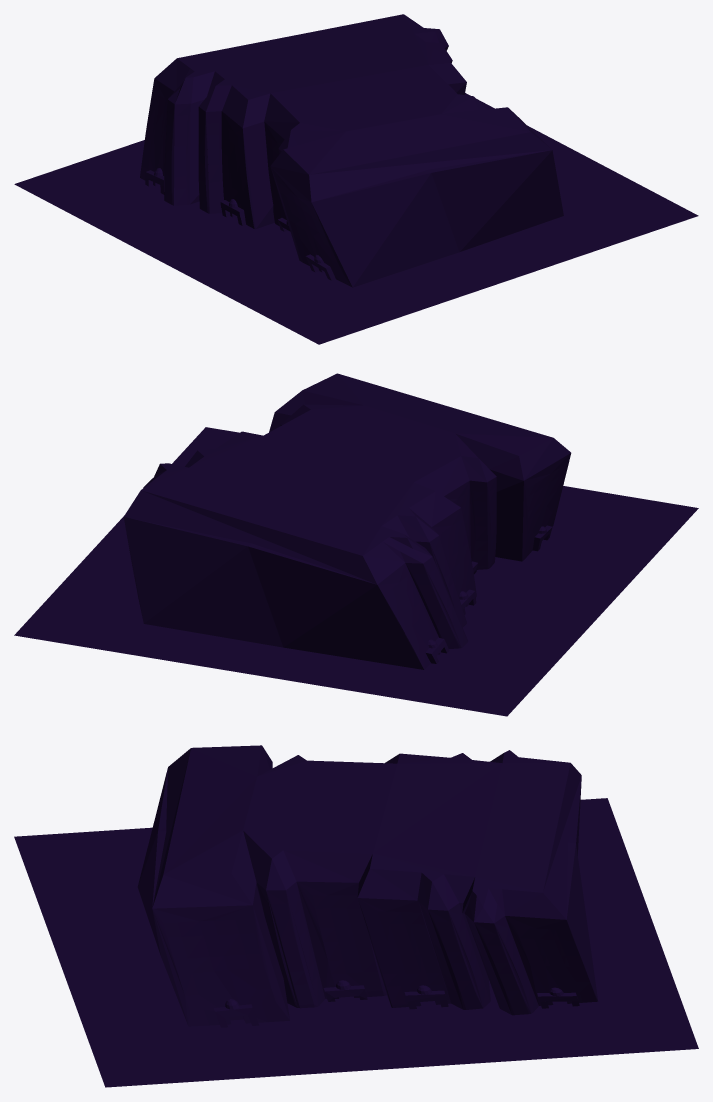
The model's file is rowhouses_oozed.FBX.
3 renders of one model, top to bottom at view 1: azimuth 30°, elevation 25°; view 2: azimuth 150°, elevation 25°; view 3: azimuth 270°, elevation 25°, orthographic. The views are drawn at different scales.
Parts seen in each view (by area): view 1: Layer:street, Layer:0, Layer:rowhouse1, Layer:rowhouse3, Layer:rowhouse2, Layer:windows, Layer:bldgconcrete, Layer:wood, Layer:rowhouse4; view 2: Layer:0, Layer:street, Layer:rowhouse2, Layer:rowhouse4, Layer:bldgconcrete, Layer:rowhouse3, Layer:windows, Layer:rowhouse1, Layer:wood; view 3: Layer:street, Layer:0, Layer:bldgconcrete, Layer:rowhouse1, Layer:windows, Layer:rowhouse3, Layer:rowhouse2, Layer:rowhouse4, Layer:wood.
Part boxes in pixels (box(x1,y1,x2,y2)): Layer:street: box(14, 93, 698, 344); Layer:0: box(129, 14, 551, 226); Layer:rowhouse1: box(198, 107, 563, 252); Layer:rowhouse3: box(270, 60, 466, 287); Layer:rowhouse2: box(140, 78, 203, 205); Layer:windows: box(141, 91, 342, 273); Layer:bldgconcrete: box(126, 156, 511, 329); Layer:wood: box(138, 168, 581, 280); Layer:rowhouse4: box(264, 46, 448, 222); Layer:0: box(113, 373, 570, 666); Layer:street: box(14, 427, 698, 716); Layer:rowhouse2: box(248, 425, 468, 669); Layer:rowhouse4: box(123, 477, 496, 647); Layer:bldgconcrete: box(49, 443, 661, 701); Layer:rowhouse3: box(490, 453, 571, 561); Layer:windows: box(132, 464, 566, 659); Layer:rowhouse1: box(269, 412, 476, 627); Layer:wood: box(425, 525, 604, 663); Layer:street: box(14, 798, 698, 1087); Layer:0: box(152, 745, 581, 1021); Layer:bldgconcrete: box(67, 813, 663, 1072); Layer:rowhouse1: box(152, 831, 289, 1026); Layer:windows: box(163, 895, 593, 1021); Layer:rowhouse3: box(137, 768, 490, 1009); Layer:rowhouse2: box(256, 777, 581, 1007); Layer:rowhouse4: box(465, 842, 598, 1015); Layer:wood: box(214, 980, 579, 1058).
Bounding box in the file's own units: 4681 × 1036 × 4681.
